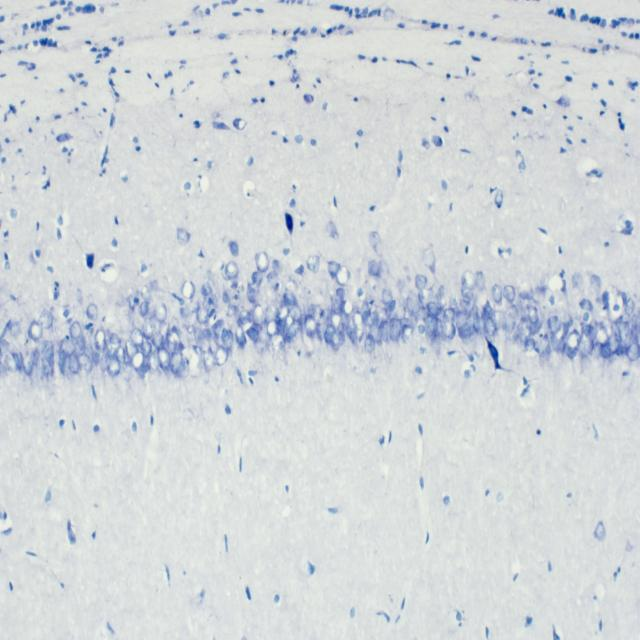neuron: (458, 309, 475, 339), (268, 327, 286, 352), (566, 329, 581, 359), (352, 310, 365, 343), (578, 333, 594, 359), (202, 293, 218, 318), (421, 247, 436, 273), (433, 316, 448, 342), (605, 327, 620, 353), (22, 348, 35, 377), (156, 347, 171, 372), (166, 328, 181, 352), (462, 269, 478, 291), (593, 324, 609, 346), (330, 310, 344, 335), (103, 341, 121, 360), (77, 352, 93, 373), (490, 310, 506, 331), (28, 319, 43, 341), (434, 285, 447, 310), (107, 355, 121, 378), (220, 328, 234, 351), (60, 336, 76, 356), (224, 260, 240, 280), (170, 350, 183, 374), (304, 313, 317, 337), (346, 318, 358, 344), (256, 251, 270, 273), (331, 292, 345, 314), (418, 287, 434, 306), (203, 347, 215, 372), (335, 266, 350, 286), (389, 317, 401, 342), (471, 304, 480, 337), (131, 351, 145, 372), (547, 315, 561, 336), (150, 313, 162, 337), (246, 282, 259, 304), (407, 292, 420, 314), (39, 310, 54, 329), (130, 327, 144, 347), (314, 304, 328, 324), (454, 310, 468, 330), (504, 304, 518, 324), (626, 342, 640, 362), (12, 346, 23, 371), (215, 345, 228, 366), (401, 324, 414, 345), (443, 320, 456, 341), (282, 278, 298, 295), (287, 321, 302, 339), (4, 354, 18, 373), (181, 280, 195, 299), (518, 325, 532, 344), (94, 328, 106, 350), (193, 328, 205, 350), (235, 325, 247, 347), (252, 303, 264, 325), (267, 270, 279, 292), (324, 323, 336, 345), (430, 337, 442, 359), (125, 340, 138, 360), (154, 302, 167, 322), (341, 297, 354, 317), (122, 361, 134, 382), (142, 317, 154, 338), (140, 284, 152, 305), (148, 350, 160, 371), (264, 304, 278, 322), (306, 255, 320, 273), (332, 331, 344, 352), (381, 320, 391, 345), (505, 314, 516, 336), (590, 274, 601, 296), (152, 330, 164, 350), (159, 317, 169, 341), (232, 274, 244, 294), (459, 298, 476, 312), (196, 306, 209, 324), (277, 303, 290, 321), (369, 324, 382, 342), (478, 312, 486, 341), (61, 355, 72, 376), (475, 271, 486, 292), (328, 261, 340, 280), (364, 333, 376, 352), (504, 285, 516, 304), (526, 305, 538, 324), (283, 292, 298, 307), (615, 322, 630, 337), (263, 283, 276, 300), (0, 338, 10, 360), (492, 284, 502, 306), (571, 272, 583, 290), (69, 353, 79, 374), (185, 299, 200, 313), (579, 298, 594, 312), (624, 297, 634, 318), (250, 271, 263, 287), (426, 314, 435, 337), (70, 321, 82, 338), (86, 303, 98, 320), (290, 305, 302, 322), (426, 301, 438, 318), (376, 319, 384, 344), (486, 317, 496, 337), (482, 300, 493, 318), (226, 304, 240, 318), (238, 310, 252, 324), (140, 342, 152, 358), (228, 240, 240, 256), (264, 294, 280, 306), (415, 274, 427, 290), (524, 337, 536, 353), (267, 319, 278, 336), (461, 287, 474, 301), (76, 334, 86, 352), (208, 339, 220, 354), (246, 327, 258, 342), (361, 300, 370, 320), (383, 286, 393, 304), (443, 307, 455, 322), (84, 333, 93, 352), (396, 303, 406, 320), (181, 357, 189, 378), (580, 324, 594, 336), (10, 322, 21, 337), (93, 348, 103, 364), (600, 345, 612, 358), (201, 282, 212, 296), (99, 352, 107, 371), (522, 305, 530, 324), (273, 259, 283, 274), (212, 319, 224, 331), (203, 328, 213, 342), (370, 311, 380, 325), (117, 346, 125, 363), (635, 307, 640, 334), (139, 302, 148, 316), (109, 332, 120, 343), (192, 344, 202, 356), (0, 362, 7, 378), (76, 288, 82, 305), (180, 307, 190, 317), (399, 317, 409, 327), (222, 291, 230, 303), (286, 315, 294, 327), (336, 287, 345, 297), (308, 304, 316, 315), (389, 300, 396, 312), (187, 323, 195, 333), (418, 324, 425, 334), (583, 312, 589, 322)
